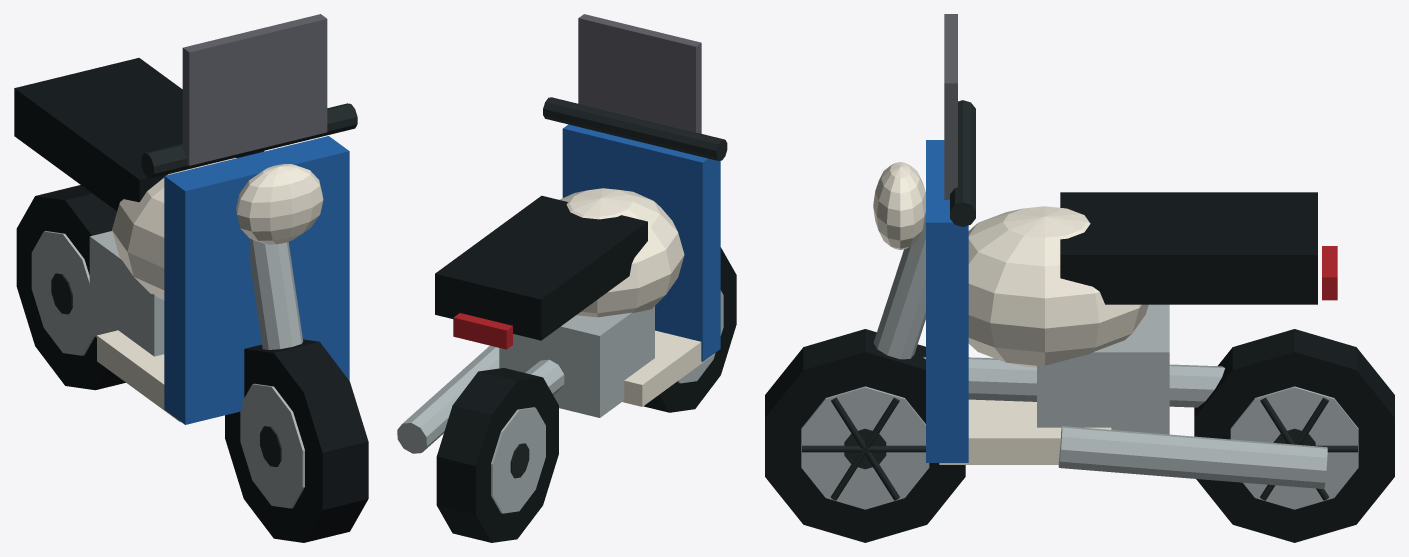
The model's file is good.glb.
The picture shows the model from 3 angles, left to right: view 1: azimuth 30°, elevation 25°; view 2: azimuth 150°, elevation 25°; view 3: azimuth 270°, elevation 25°; orthographic projection. The views are drawn at different scales.
Parts seen in each view (by area): view 1: Saddle, Scooter apron, Engine, Windshield, Footboard, Handlebar; view 2: Saddle, Engine, Scooter apron, Windshield, Footboard, Handlebar, Rear light; view 3: Saddle, Engine, Footboard, Scooter apron, Handlebar, Windshield, Rear light.
Boxes of the visible parts, box(x1,y1,x2,y2) form: Saddle: box(14, 58, 368, 542); Scooter apron: box(164, 136, 349, 424); Engine: box(31, 231, 304, 508); Windshield: box(182, 14, 327, 165); Footboard: box(97, 157, 323, 422); Handlebar: box(51, 103, 357, 466); Saddle: box(435, 195, 736, 542); Engine: box(397, 290, 723, 513); Scooter apron: box(562, 124, 720, 361); Windshield: box(578, 14, 701, 133); Footboard: box(559, 188, 713, 406); Handlebar: box(510, 97, 727, 478); Rear light: box(453, 313, 512, 349); Saddle: box(765, 192, 1394, 542); Engine: box(801, 212, 1358, 509); Footboard: box(873, 162, 1148, 464); Scooter apron: box(926, 140, 968, 462); Handlebar: box(802, 100, 1357, 500); Windshield: box(944, 14, 957, 199); Rear light: box(1322, 246, 1337, 300).
Size of the model in its own units: 0.3556 by 0.78 by 0.922.
